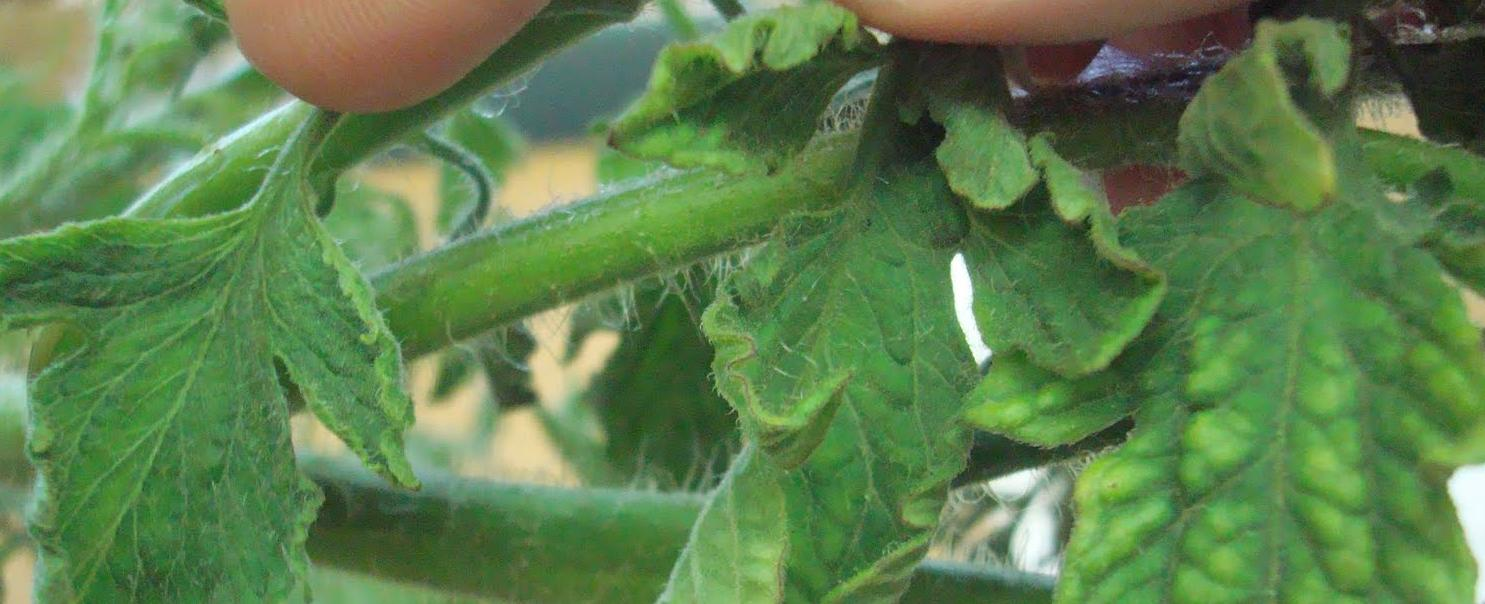Tomato leaf mosaic virus: (495, 118, 1154, 604), (998, 113, 1485, 604), (0, 186, 427, 604)
